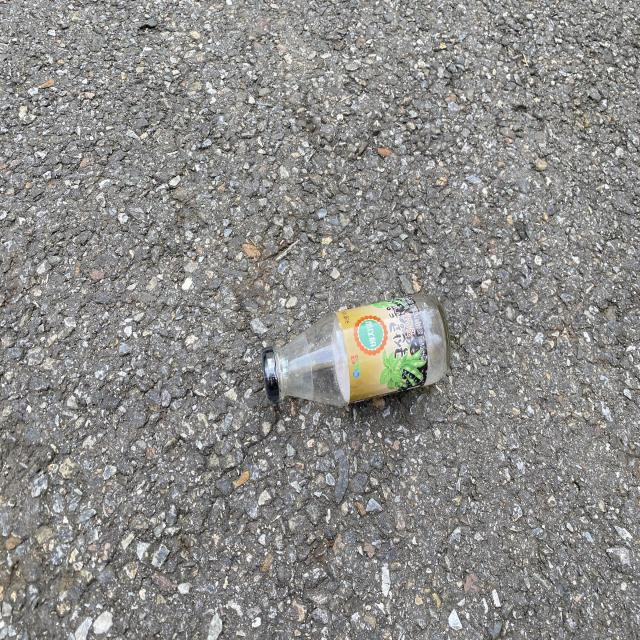glass: (262, 294, 450, 406)
